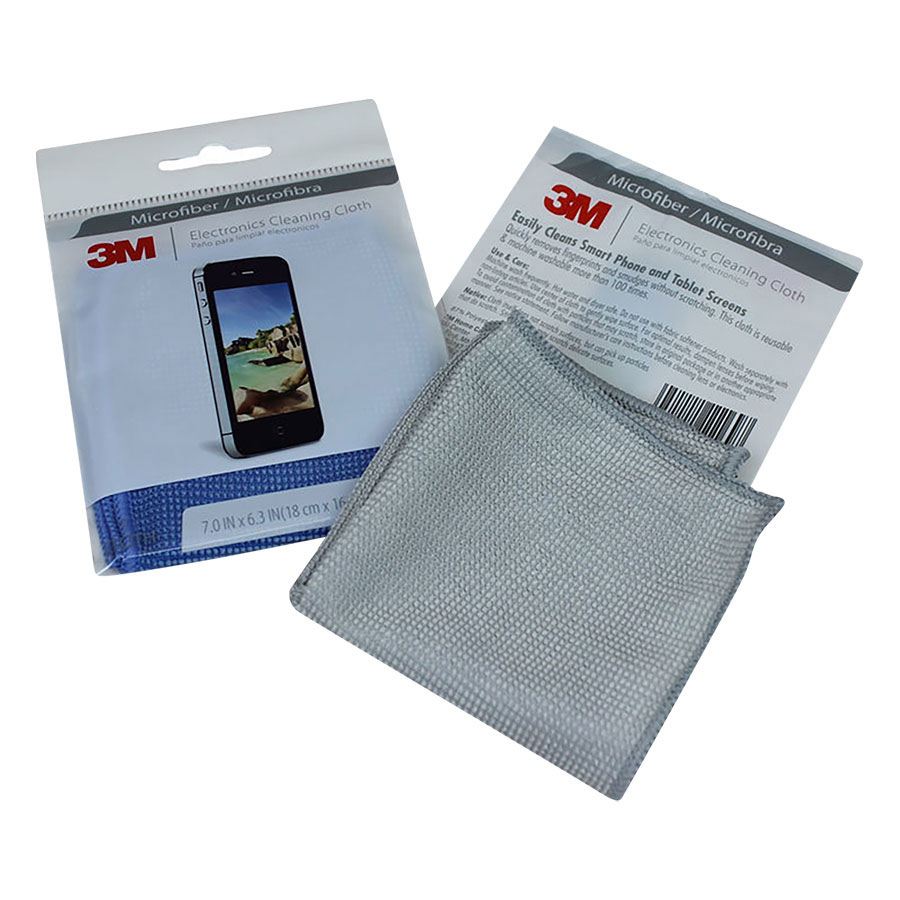3M: (542, 176, 614, 234), (83, 230, 158, 274)
